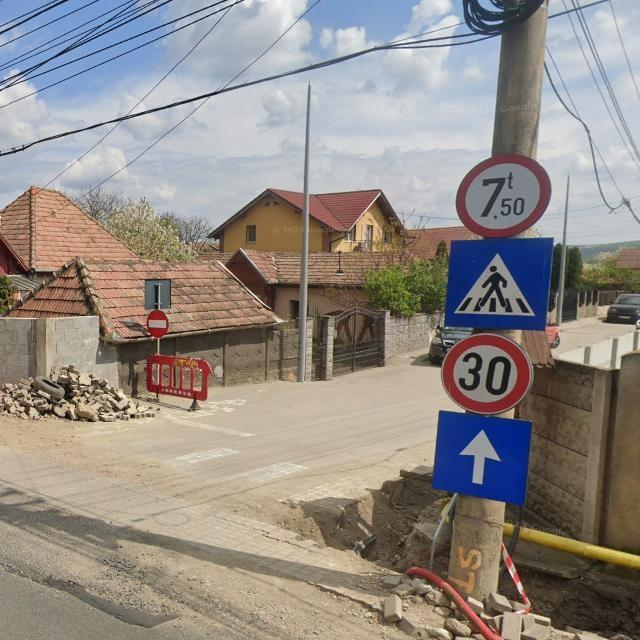forb_speed_over_30: (442, 333, 532, 415)
info_crosswalk: (444, 239, 554, 329)
